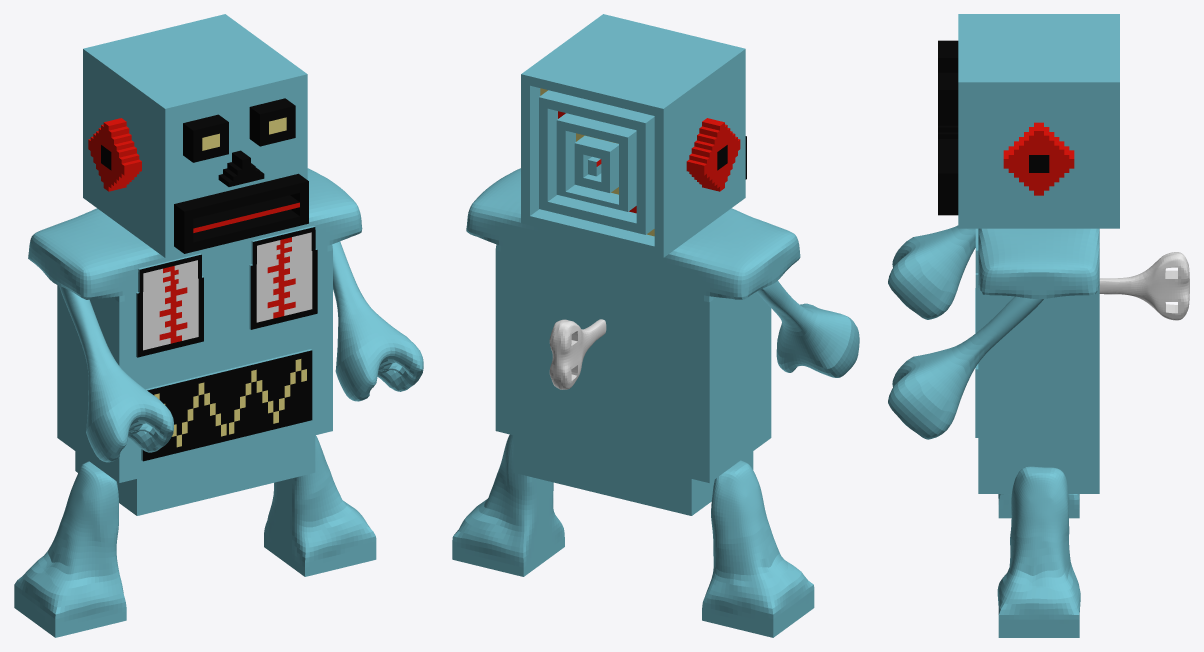
File: winduptoy.fbx
The picture shows the model from 3 angles, left to right: view 1: azimuth 30°, elevation 25°; view 2: azimuth 150°, elevation 25°; view 3: azimuth 270°, elevation 25°; orthographic projection.
Parts seen in each view (by area): view 1: Cube.002, Cube.003, Cube.006, Cube, Cube.005, Cube.001; view 2: Cube.002, Cube.003, Cube.006, Cube, Cube.005, Cube.004; view 3: Cube.003, Cube.002, Cube, Cube.001, Cube.005, Cube.004, Cube.006.
Part boxes in pixels (x1=…): Cube.002: x1=28, y1=168, x2=362, y2=515; Cube.003: x1=83, y1=14, x2=308, y2=257; Cube.006: x1=14, y1=461, x2=126, y2=637; Cube: x1=264, y1=435, x2=376, y2=576; Cube.005: x1=59, y1=286, x2=173, y2=462; Cube.001: x1=332, y1=241, x2=423, y2=401; Cube.002: x1=466, y1=168, x2=800, y2=515; Cube.003: x1=521, y1=14, x2=746, y2=257; Cube.006: x1=702, y1=460, x2=814, y2=637; Cube: x1=452, y1=434, x2=564, y2=576; Cube.005: x1=756, y1=281, x2=859, y2=377; Cube.004: x1=549, y1=319, x2=606, y2=389; Cube.003: x1=938, y1=14, x2=1119, y2=228; Cube.002: x1=975, y1=228, x2=1099, y2=493; Cube: x1=997, y1=466, x2=1080, y2=637; Cube.001: x1=888, y1=296, x2=1043, y2=439; Cube.005: x1=888, y1=225, x2=975, y2=319; Cube.004: x1=1099, y1=252, x2=1189, y2=320; Cube.006: x1=998, y1=494, x2=1079, y2=518.
Bounding box in the file's own units: 1801 × 2799 × 1494.
